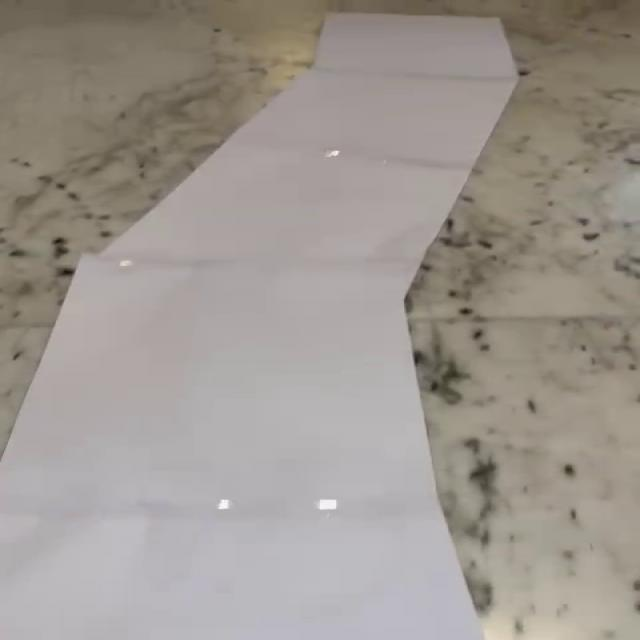road: (3, 14, 517, 640)
